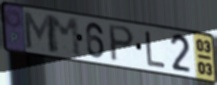2: (169, 31, 195, 78)
6: (84, 21, 106, 60)
L: (145, 30, 168, 70)
M: (46, 14, 84, 59), (21, 9, 57, 55)
P: (107, 23, 136, 64)
